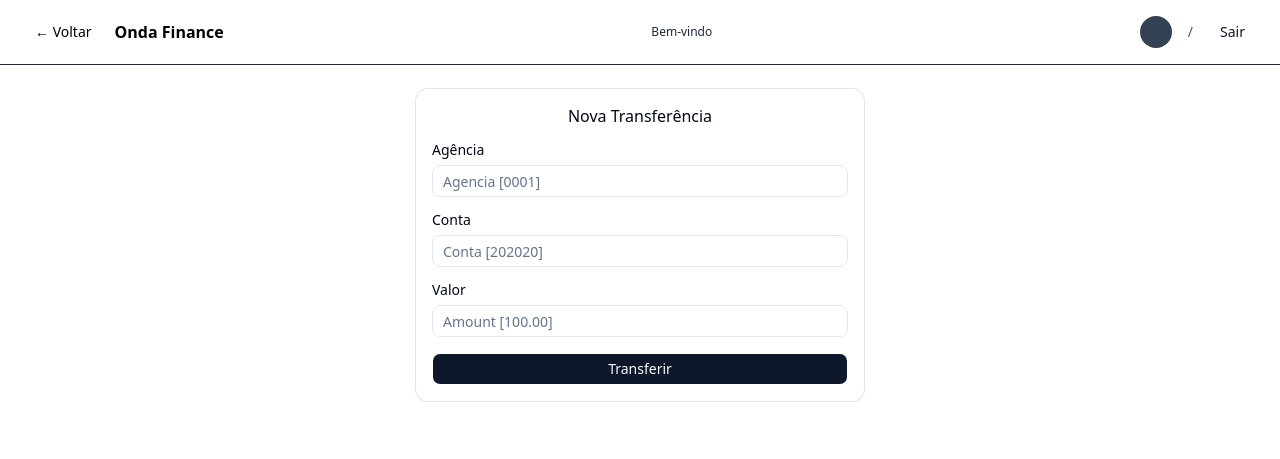
Test: TRANSFER | should try tranfer only with Amount
Step 1. Type "50" into the number field with placeholder "Amount [100.00]" → (640, 321), box [432,305,848,337]
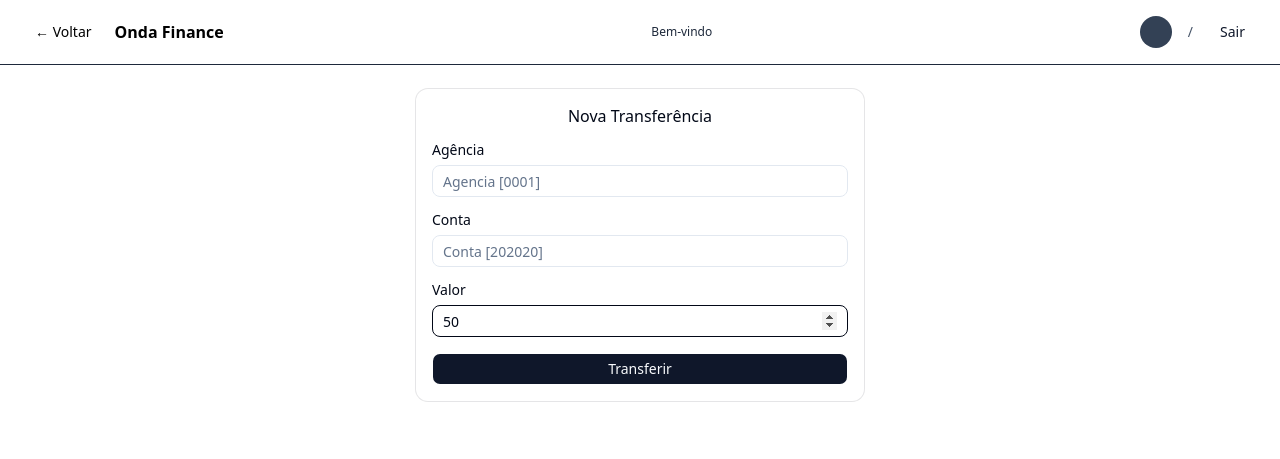
Step 2. Click the button "Transferir" → click(640, 369), box [432,353,848,385]
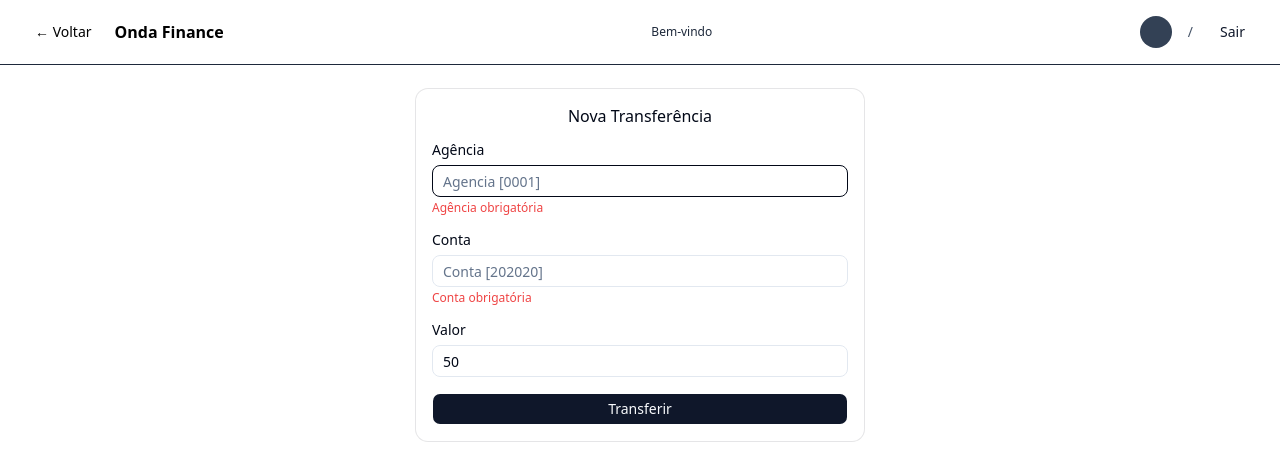
Check: the text "Conta obrigatória" is shown, box [432,289,532,306]
Check: the text "Agência obrigatória" is shown, box [432,199,543,216]
